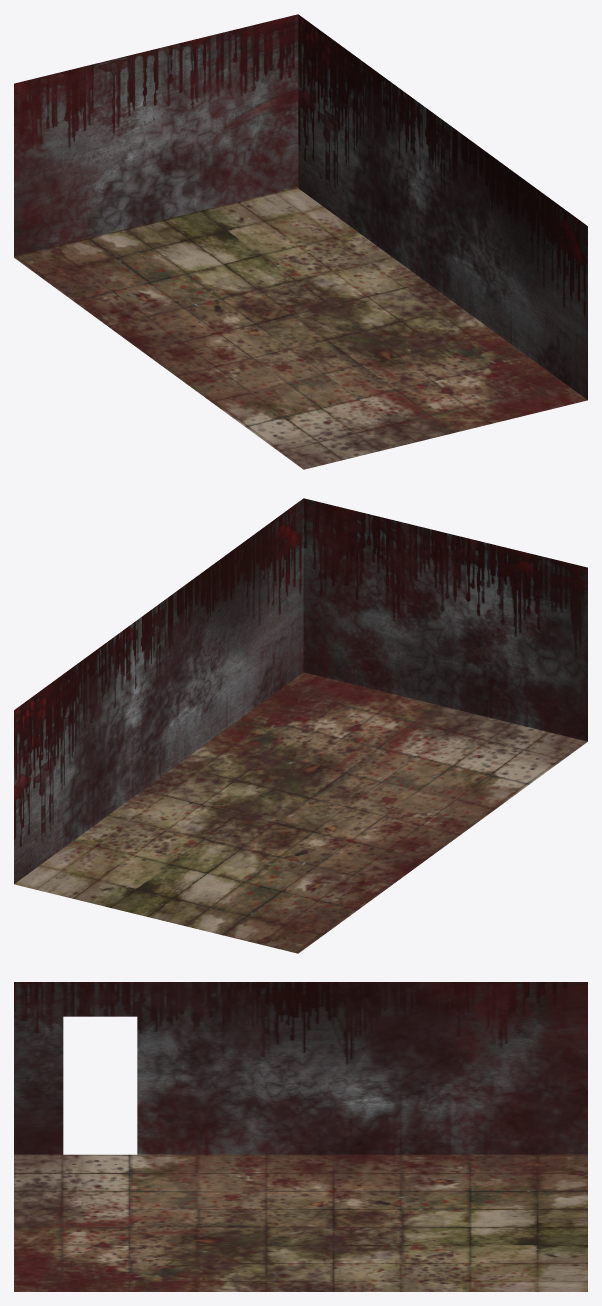
Rendered from AutopsyRoom2.glb.
The picture shows the model from 3 angles, top to bottom: view 1: azimuth 30°, elevation 25°; view 2: azimuth 150°, elevation 25°; view 3: azimuth 270°, elevation 25°; orthographic projection.
Parts seen in each view (by area): view 1: pCube1; view 2: pCube1; view 3: pCube1.
Boxes of the visible parts, <box> form: pCube1: <box>14,14,587,469</box>; pCube1: <box>14,498,587,953</box>; pCube1: <box>14,982,587,1291</box>.
Bounding box in the file's own units: 1 × 0.5851 × 1.77.
1 material, 1 textured.
